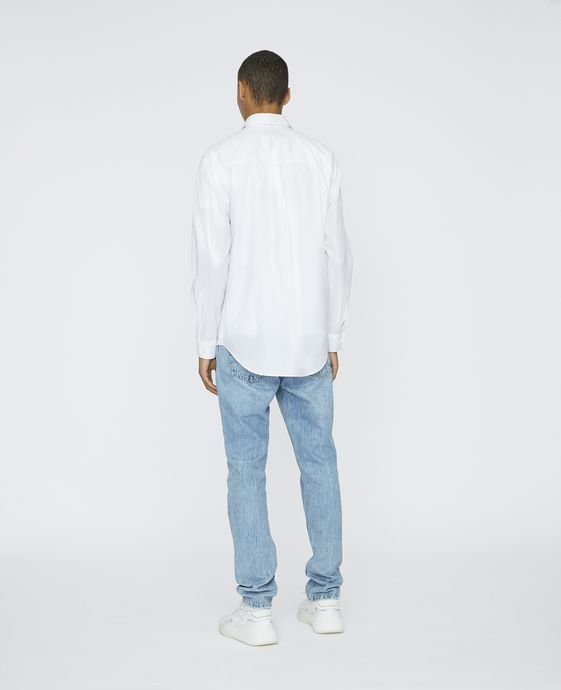jeans: (206, 330, 384, 603)
